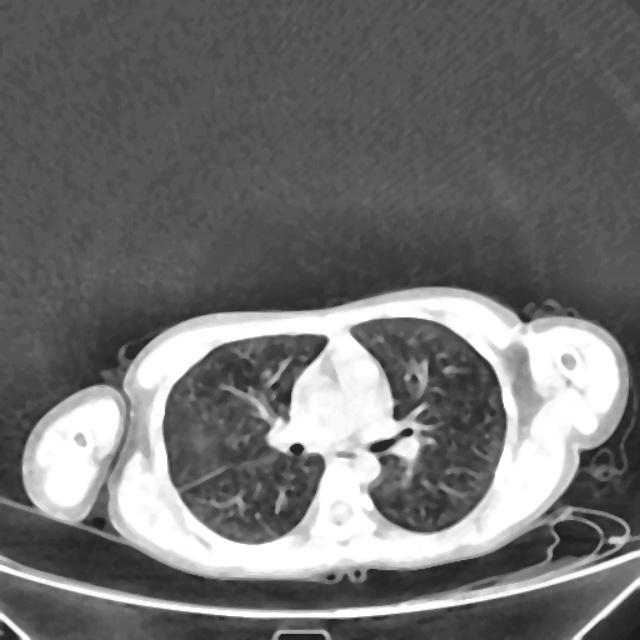covid: (20, 283, 631, 585)
